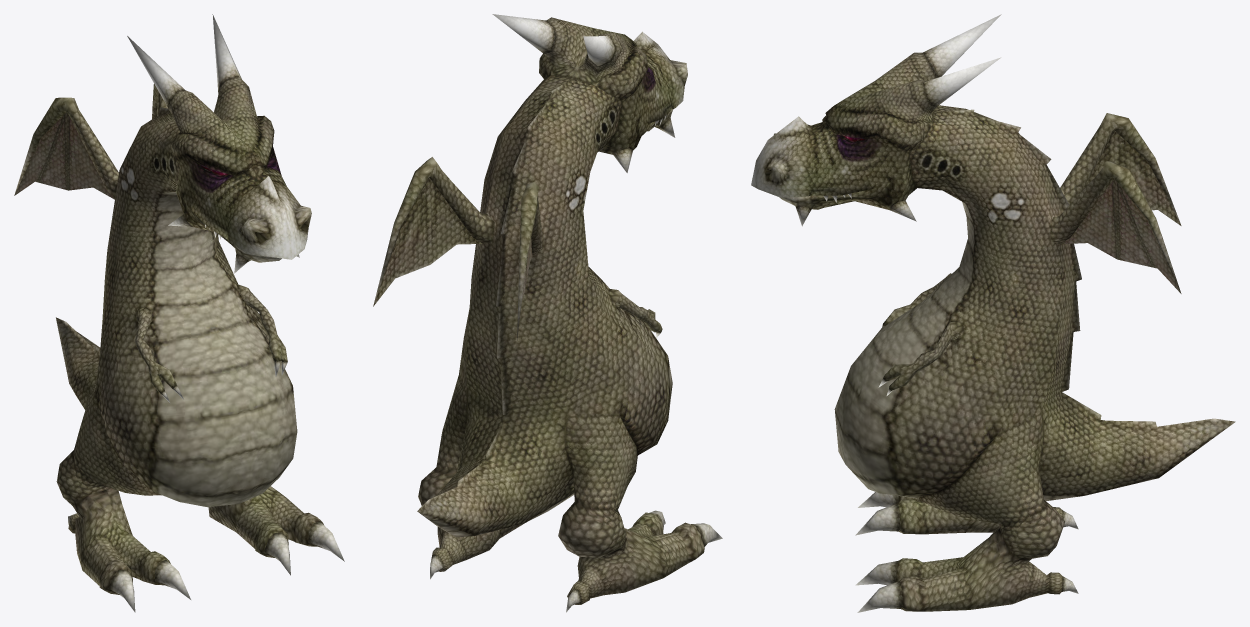
File: actor-dragon.glb
The picture shows the model from 3 angles, left to right: view 1: azimuth 30°, elevation 25°; view 2: azimuth 150°, elevation 25°; view 3: azimuth 270°, elevation 25°; orthographic projection. The views are drawn at different scales.
Visible parts, largest first — view 1: dragon · posed; view 2: dragon · posed; view 3: dragon · posed.
Part boxes in pixels (<box>): dragon · posed: <box>14,14,344,612</box>; dragon · posed: <box>373,14,722,612</box>; dragon · posed: <box>751,14,1235,612</box>.
Bounding box in the file's own units: 0.9103 × 2 × 1.67.
Materials: 1 (1 with a texture image).
